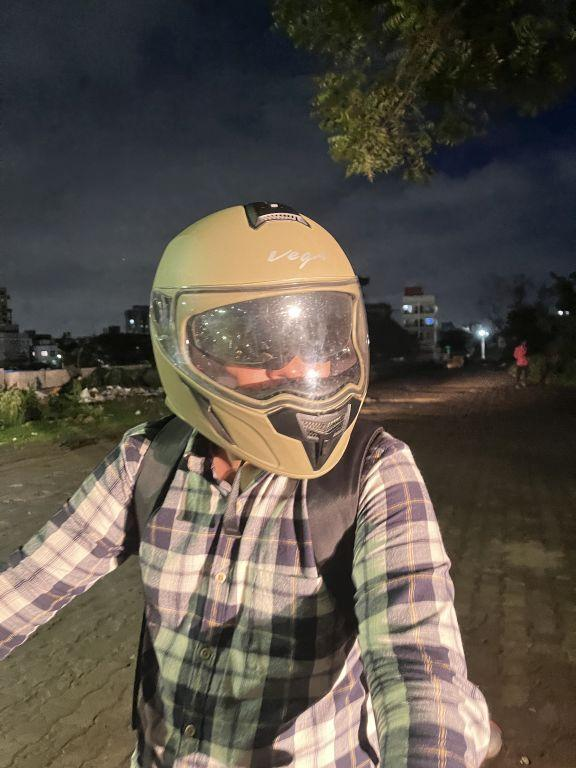helmet: (140, 185, 377, 490)
